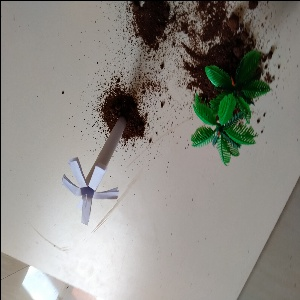plant: (190, 33, 265, 158)
weed: (63, 105, 133, 215)
